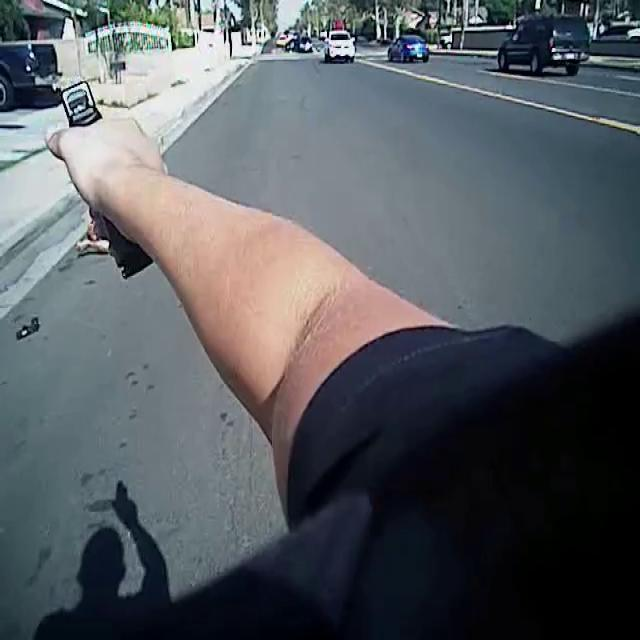gun: (27, 60, 177, 293)
